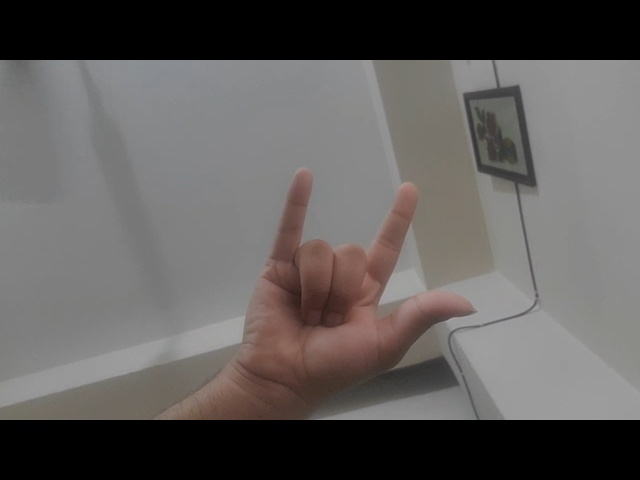I love you: (202, 145, 484, 405)
